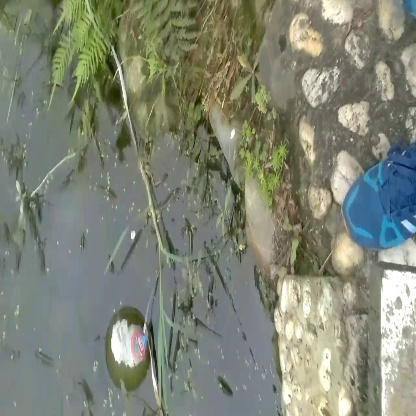plastic-bag: (102, 311, 154, 371)
